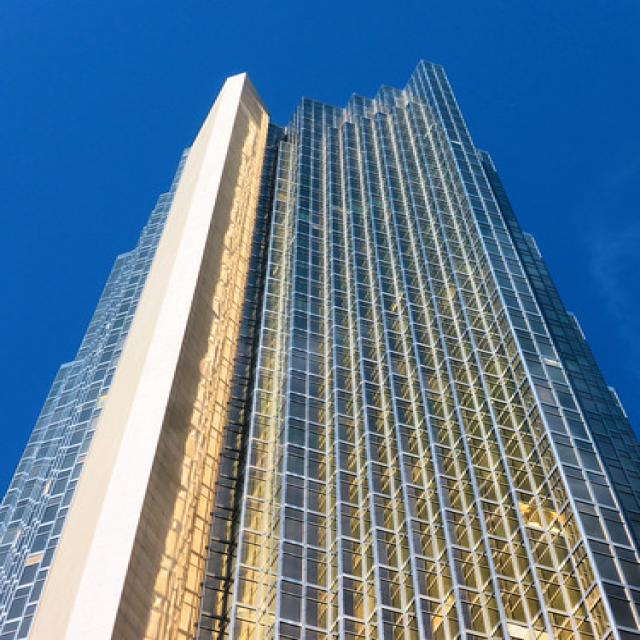building: (3, 54, 640, 640)
